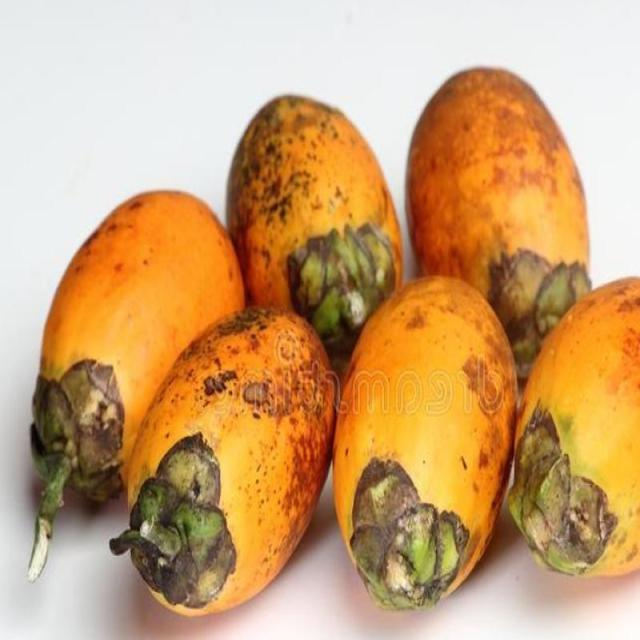good: (30, 190, 247, 566), (110, 306, 340, 620), (330, 277, 522, 614), (406, 67, 593, 379), (226, 94, 402, 375), (506, 277, 639, 581)
